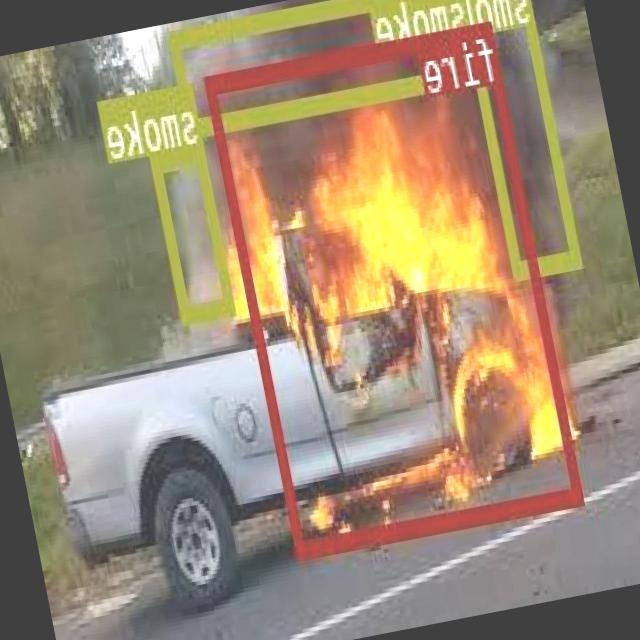fire: (205, 17, 586, 555)
smoke: (170, 0, 481, 135), (457, 0, 583, 275), (152, 144, 238, 320)
